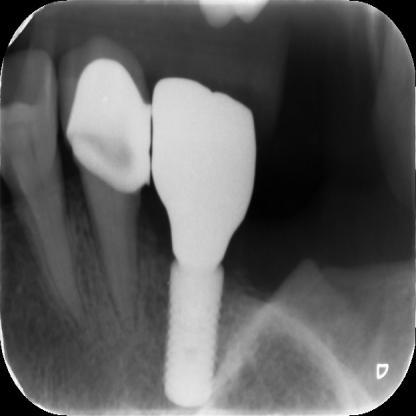ITI: (160, 262, 230, 411)
